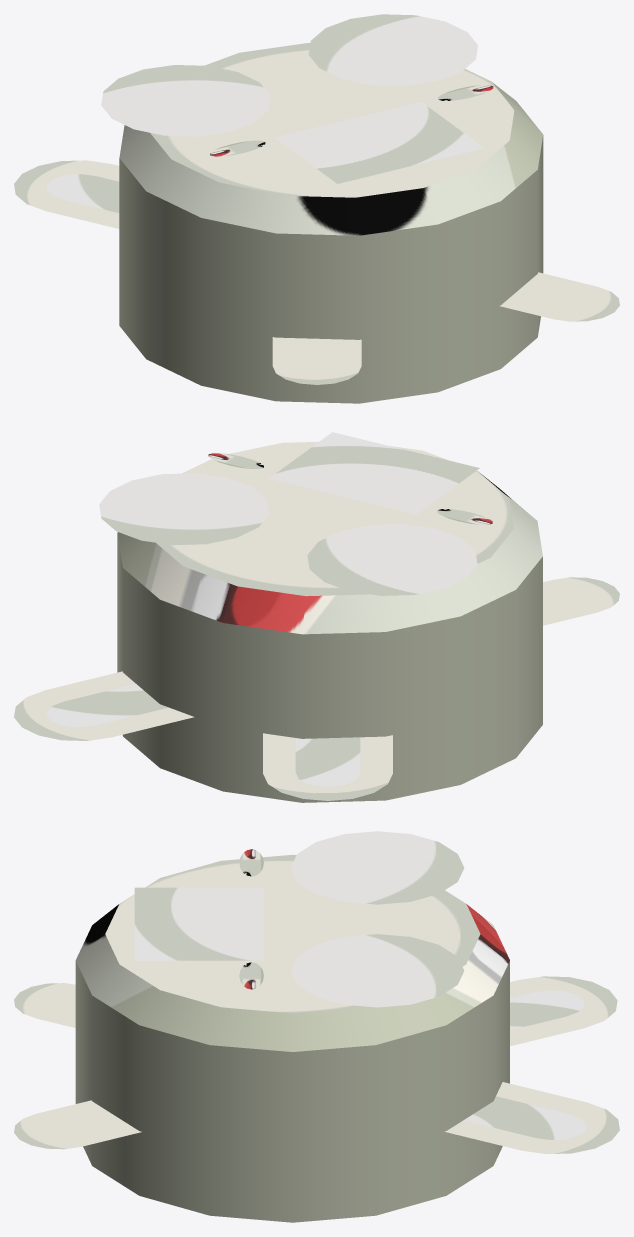
Rendered from she.FBX.
3 views of the same model, one above another, from view 1: azimuth 30°, elevation 25°; view 2: azimuth 150°, elevation 25°; view 3: azimuth 270°, elevation 25° (orthographic).
Visible parts, largest first — view 1: shetou; view 2: shetou; view 3: shetou.
Boxes of the visible parts, box(x1,y1,x2,y2) form: shetou: box(14, 14, 619, 403); shetou: box(14, 432, 619, 802); shetou: box(14, 831, 619, 1222).
Bounding box in the file's own units: 11.81 × 6.35 × 16.48.
